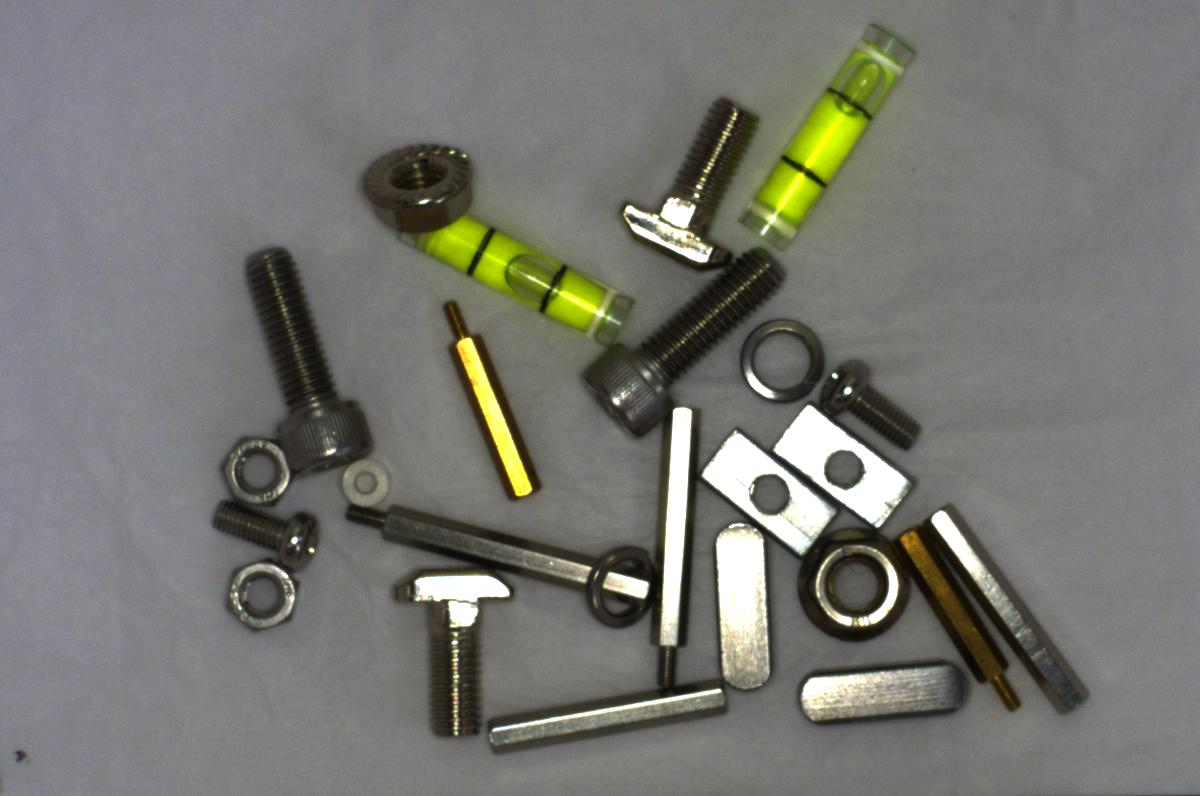Double hexagonal column: (921, 501, 1098, 717), (471, 677, 735, 758)
Flange nut: (346, 118, 478, 248), (789, 519, 910, 650)
Hexagon nut: (215, 554, 306, 636), (216, 427, 296, 509)
Hexagon pillar: (902, 522, 1030, 731), (447, 290, 546, 506)
Hexagon screw: (565, 240, 791, 432), (230, 236, 384, 485)
Hexagonal steel column: (332, 504, 653, 598), (646, 400, 702, 690)
Horizontal bubble: (732, 21, 912, 246), (403, 209, 630, 344)
Keybar: (783, 655, 973, 739), (702, 517, 778, 694)
Plastic cushion pillar: (334, 449, 389, 509)
Rectangular nut: (775, 400, 917, 535), (693, 433, 834, 558)
Round head screw: (824, 359, 929, 451), (201, 498, 324, 563)
Spring washer: (734, 309, 829, 401), (578, 527, 656, 633)
T-shaped screw: (380, 563, 533, 755), (623, 85, 765, 272)
